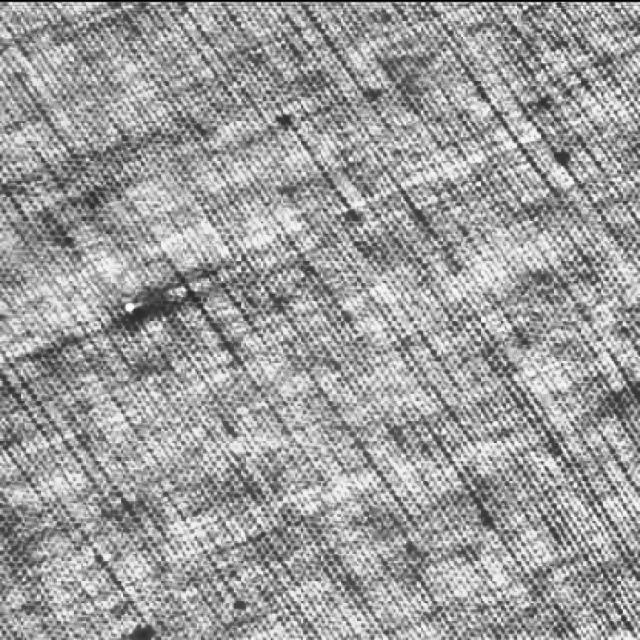hole: (114, 290, 149, 325)
